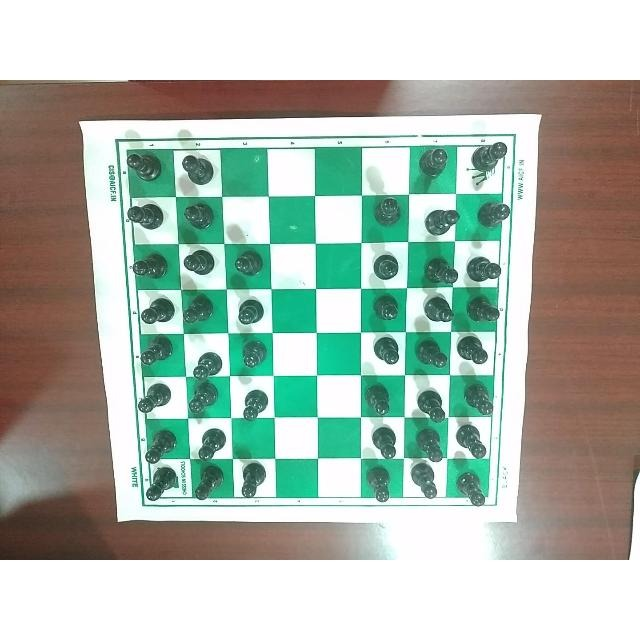black-pawn: (134, 338, 178, 378), (464, 250, 508, 289), (176, 147, 217, 187), (455, 330, 495, 370), (125, 198, 169, 234), (370, 331, 406, 374), (454, 469, 489, 513), (126, 252, 174, 284), (193, 425, 234, 462), (418, 202, 460, 238), (229, 292, 267, 331), (454, 423, 493, 461), (460, 380, 497, 420), (124, 149, 164, 185), (414, 334, 450, 374), (416, 386, 452, 426), (142, 429, 182, 465), (238, 456, 271, 499), (422, 252, 461, 288), (367, 424, 403, 463), (470, 139, 510, 174), (471, 196, 511, 231), (236, 336, 271, 376), (133, 382, 174, 416), (232, 245, 268, 283), (363, 380, 397, 420), (407, 464, 441, 504), (138, 295, 180, 327), (368, 249, 404, 286), (181, 294, 218, 330), (414, 426, 449, 464), (192, 464, 227, 502), (184, 384, 225, 416), (416, 142, 452, 178), (369, 193, 405, 229), (464, 293, 504, 325), (142, 468, 182, 500), (180, 197, 216, 232), (362, 466, 396, 503), (178, 247, 217, 279), (238, 388, 271, 424), (422, 294, 457, 327), (369, 293, 405, 325), (190, 349, 221, 381)
